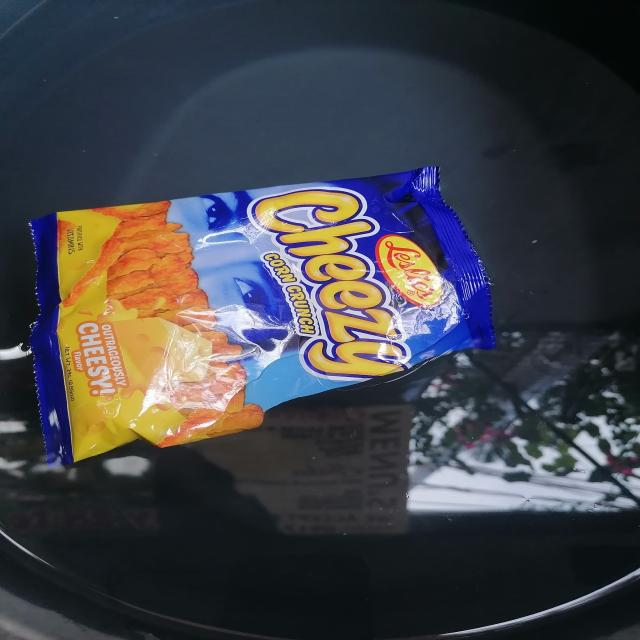Plastic Wrapper: (0, 147, 538, 483)
